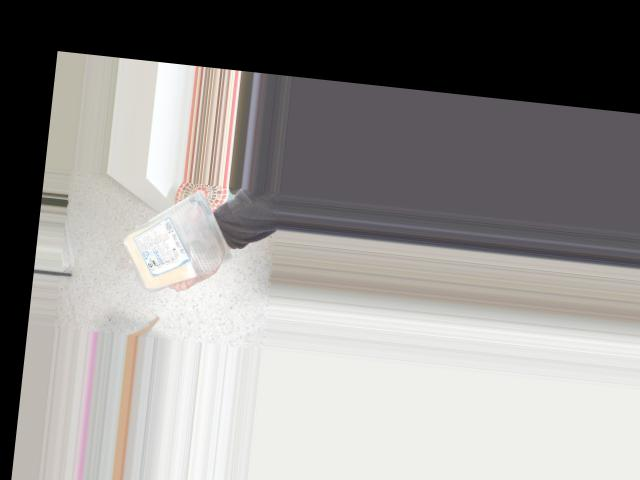cheese: (115, 191, 223, 284)
